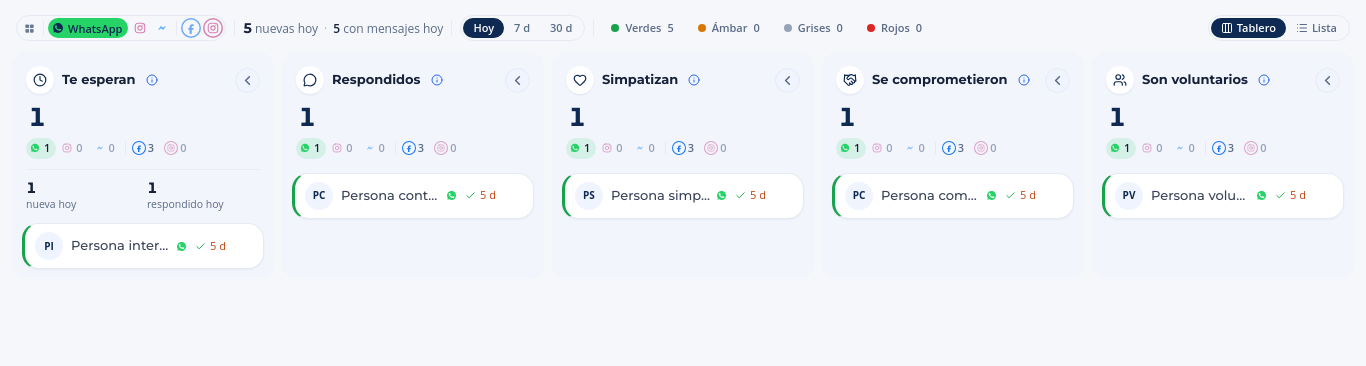
Test: VistaEmbudo — la fila de arriba › 🔴 en campaña, con un rango puesto, la card cuenta EN el rango y lo dice, y la leyenda ya no dice «En 30 d»
Expected: the text "30 d" is not shown
Click the button "30 d". click: (561, 28)
box: [540, 18, 582, 38]
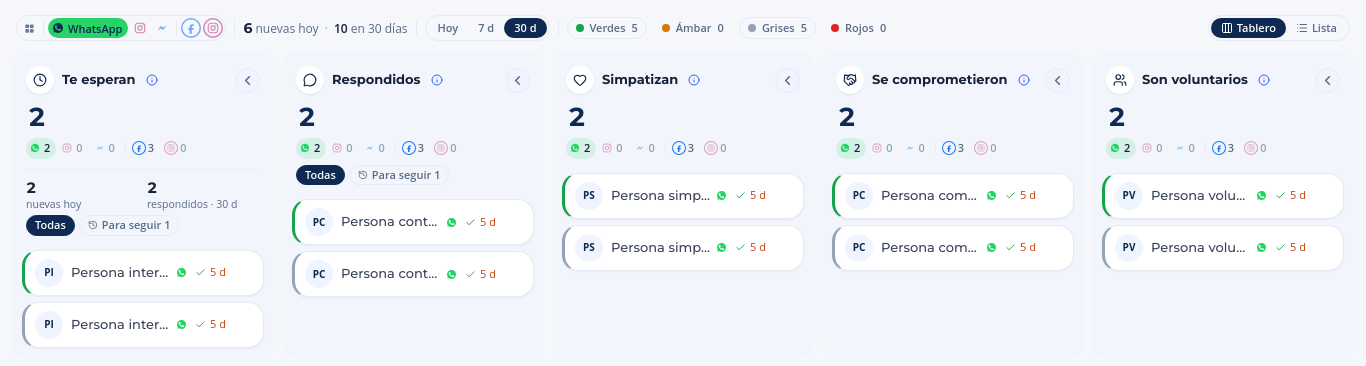
Expected: the header that starts with "Te esperan" reads "Te esperan 2 2 0 0 3 0 2 nuevas hoy 2 respondidos · 30 d Todas Para seguir 1", [20, 60, 266, 248]
